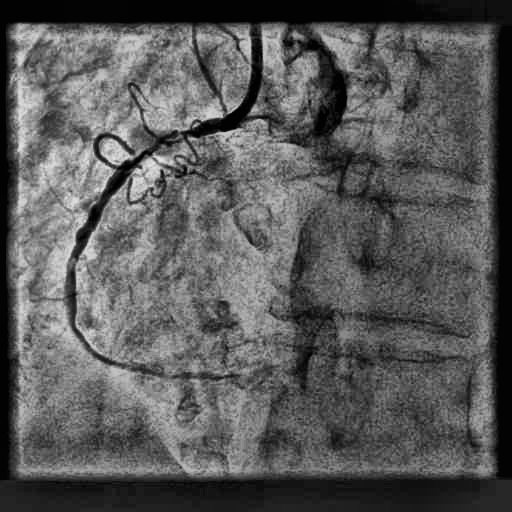rca: (64, 120, 233, 380)
